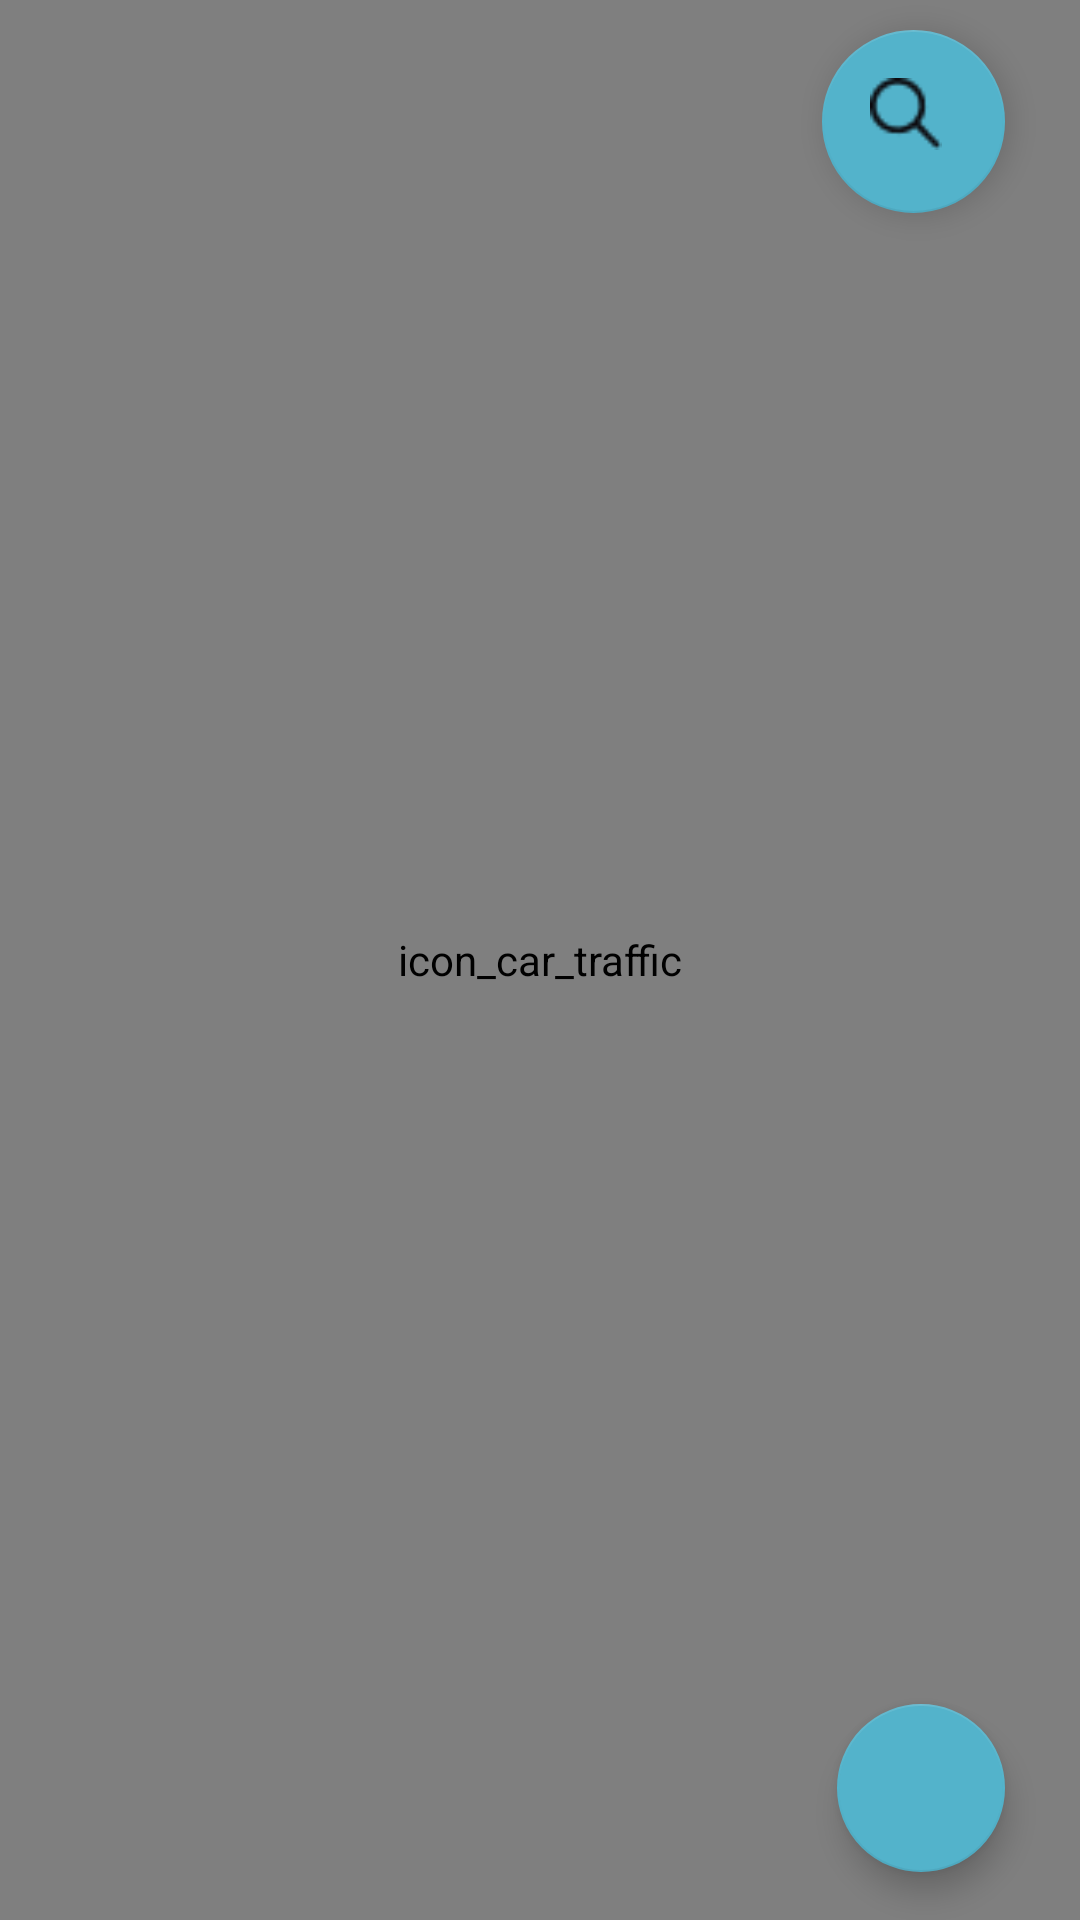

Icon click points for this 1080*1920 phone screenshot, format [x,y]:
btnsearch: [913,121]
